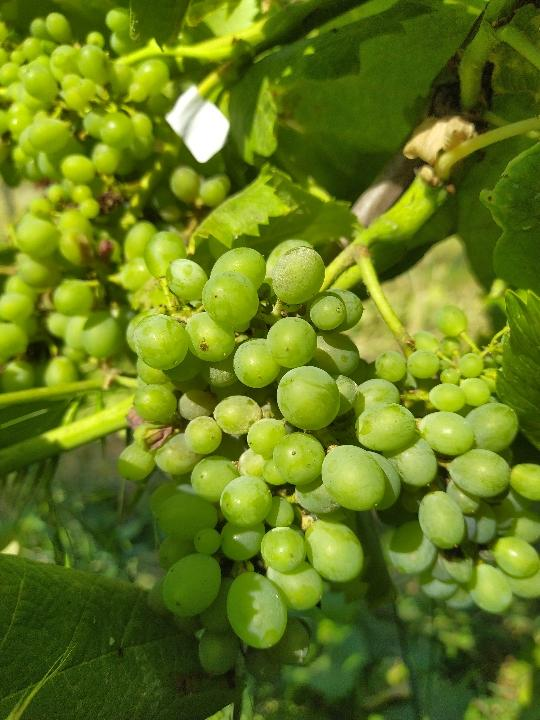grape: (112, 230, 534, 685)
